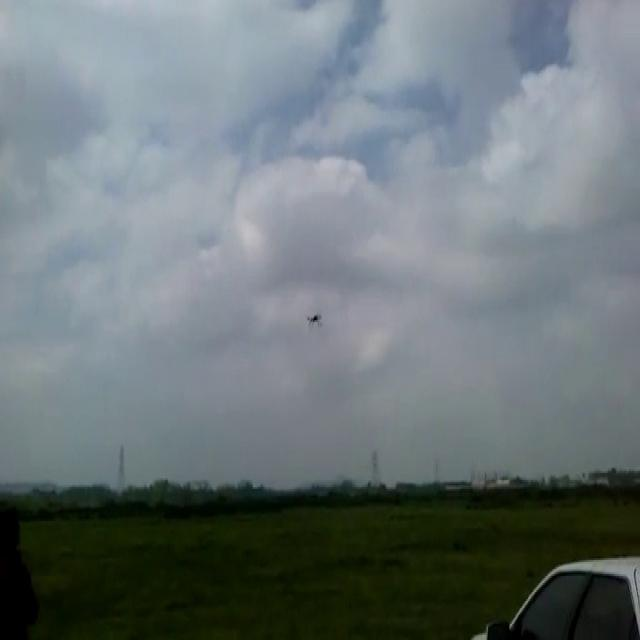drone: (303, 304, 325, 329)
